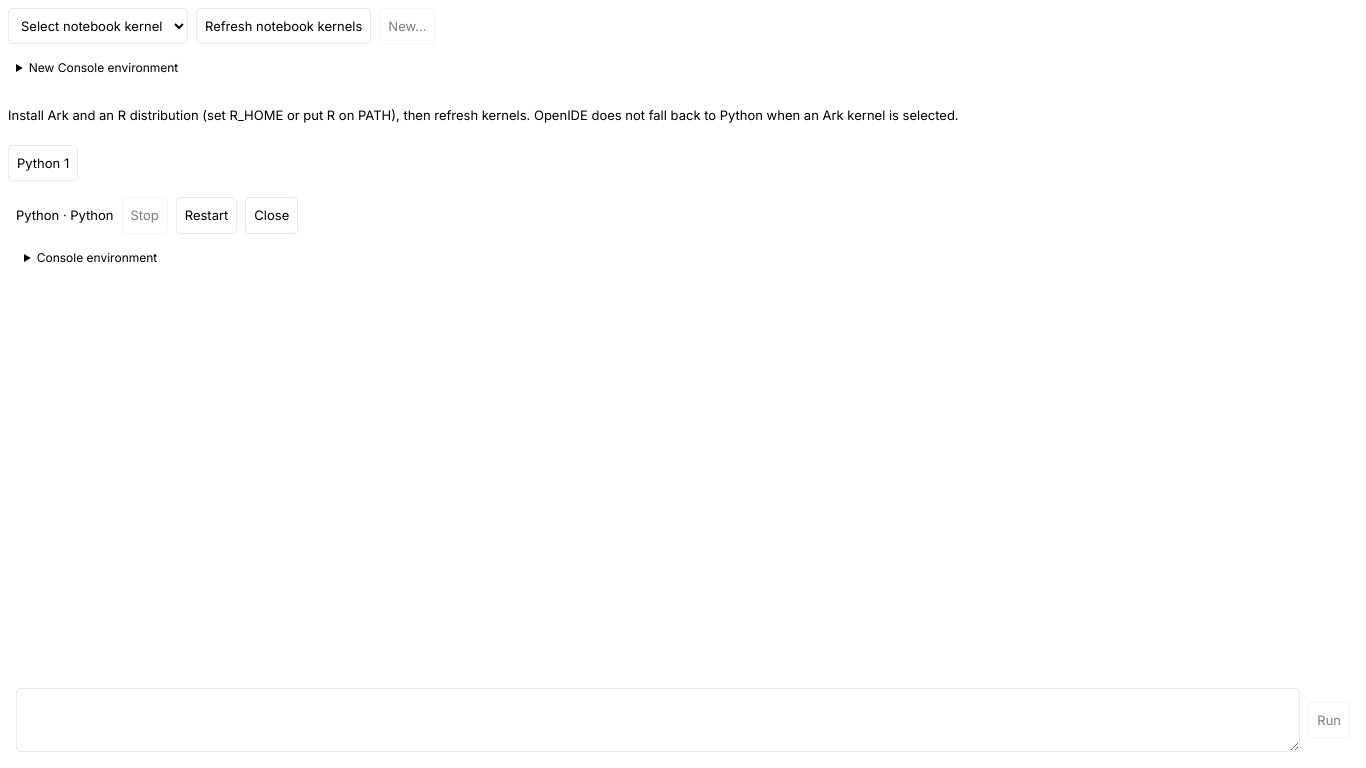
Console DOM (mock transport) › executes outside notebook, masks password replies and switches isolated tabs
Type "input()" into the text box named "Source" at point(658, 720), box x1=16 y1=688 x2=1300 y2=752
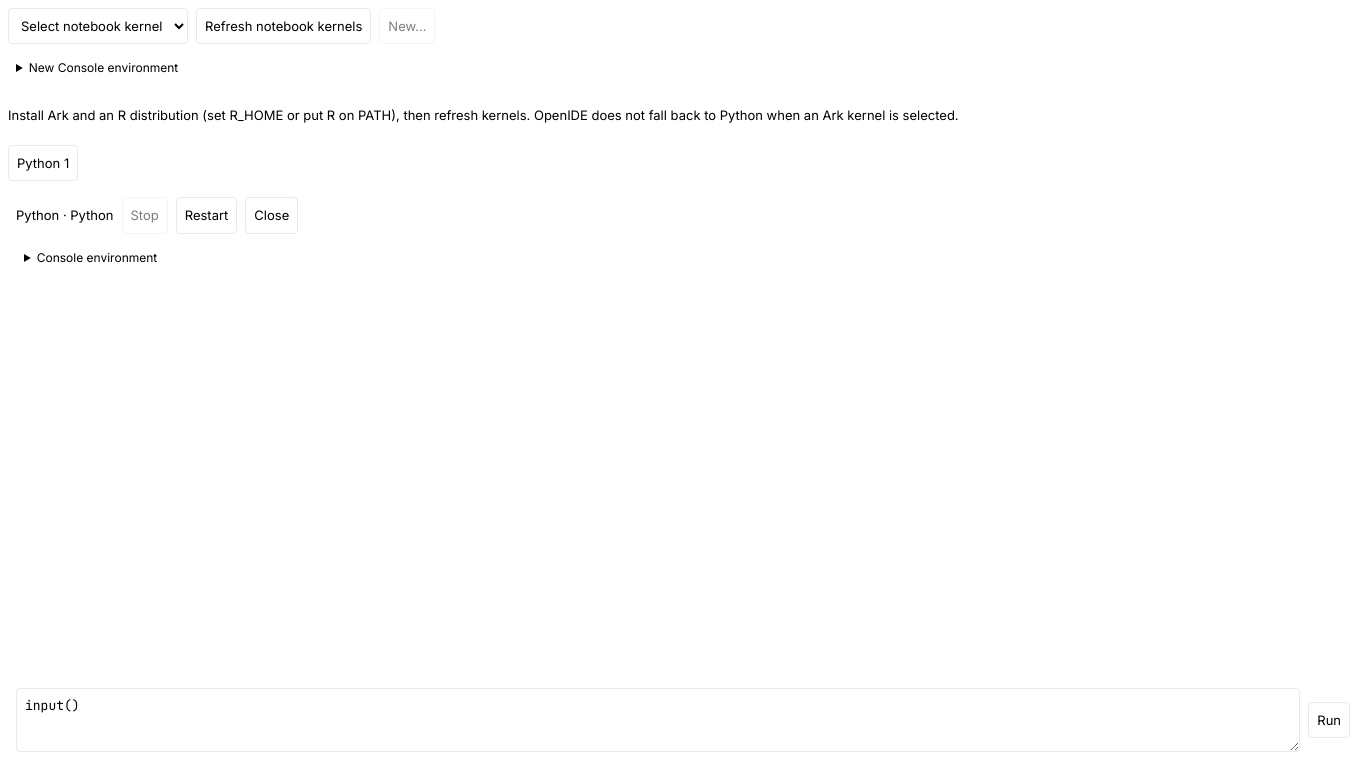
Click the button "Run" at point(1329, 720), box x1=1308 y1=702 x2=1350 y2=738
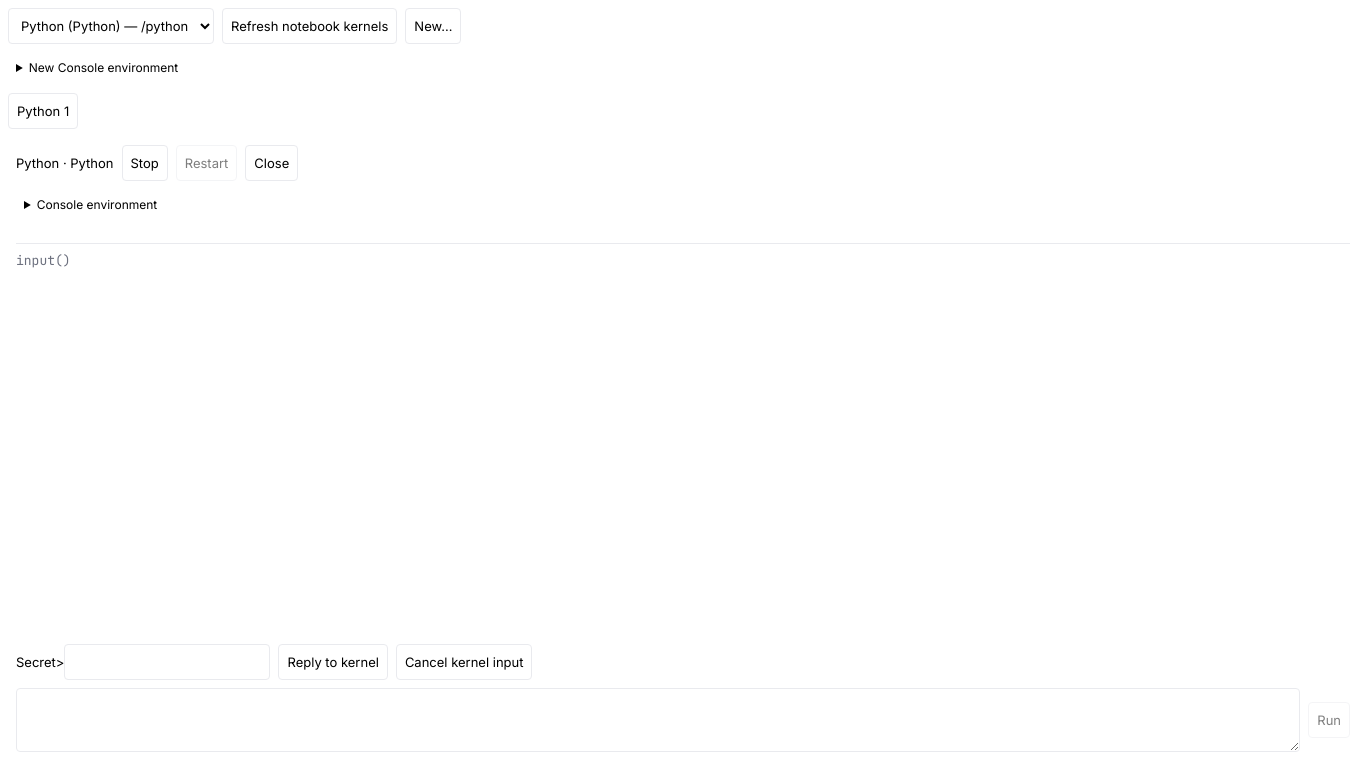
Type "secret" into the password field named "Kernel input" at point(168, 662), box x1=64 y1=644 x2=270 y2=680
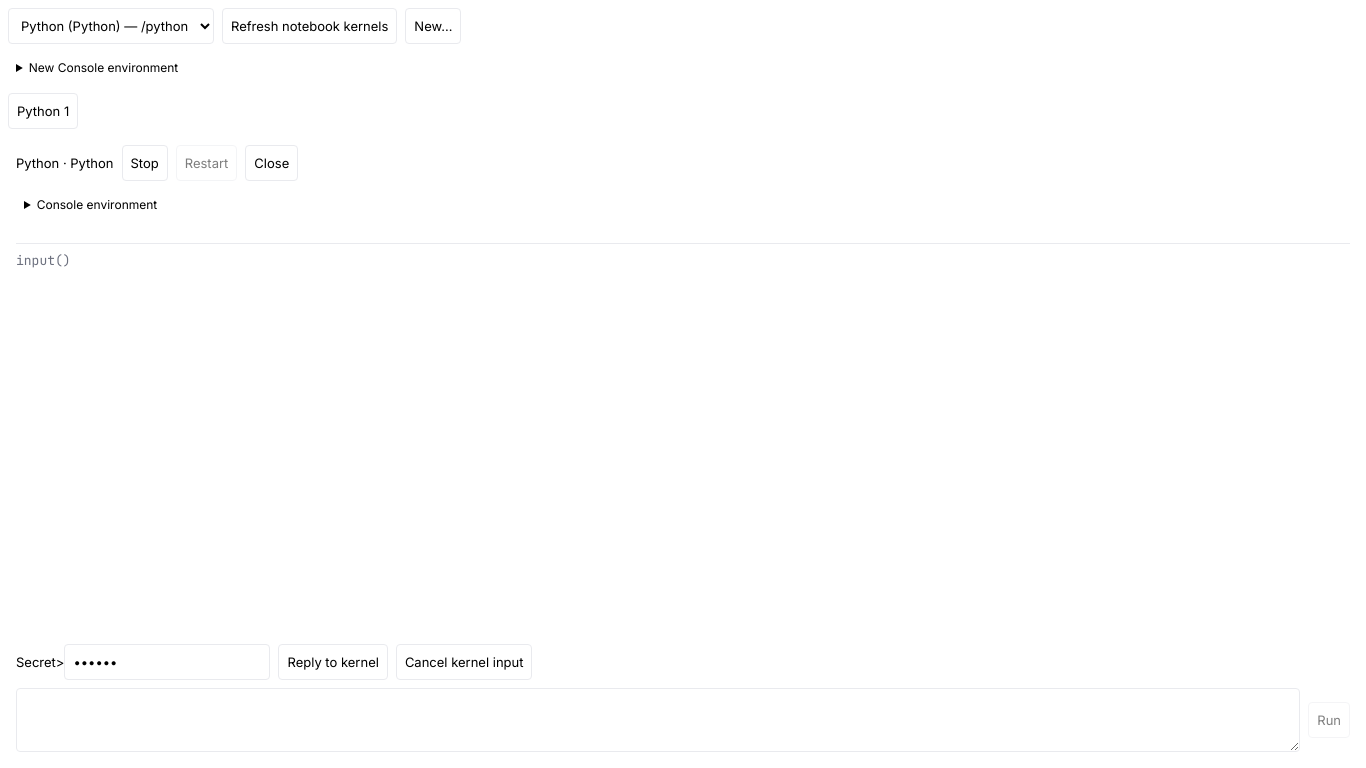
Click the button "Reply to kernel" at point(333, 662), box x1=278 y1=644 x2=388 y2=680
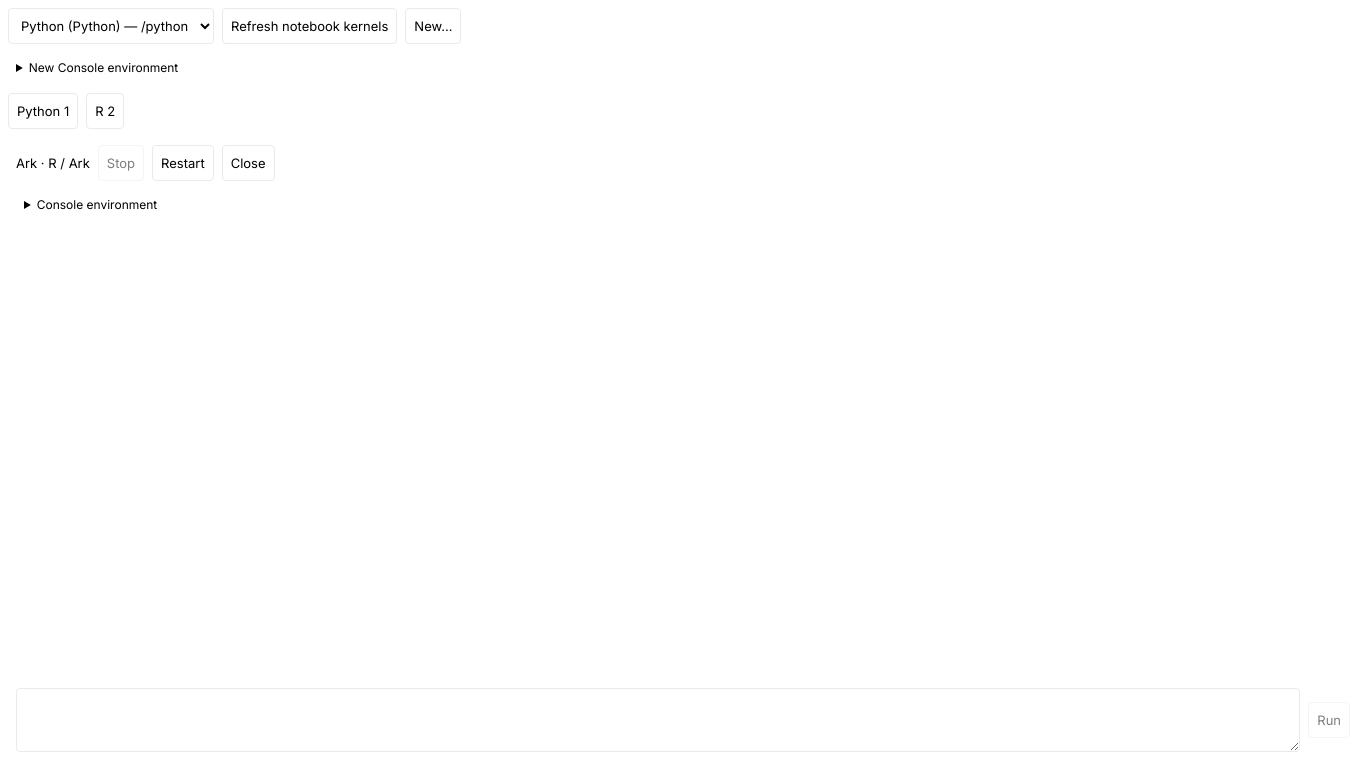
Click the tab "Python 1" at point(43, 111), box x1=8 y1=93 x2=78 y2=129
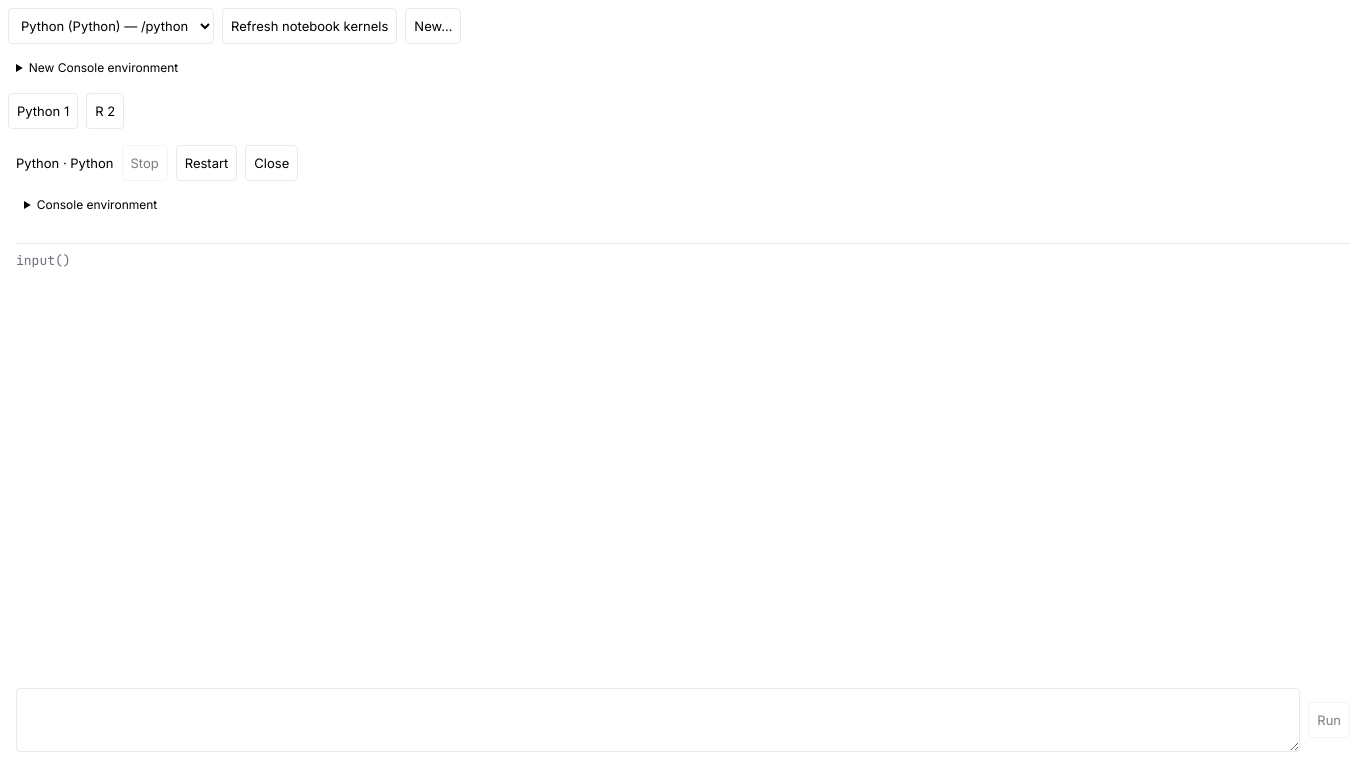
Check: the element showing "input()" is shown, box x1=16 y1=243 x2=1350 y2=270
